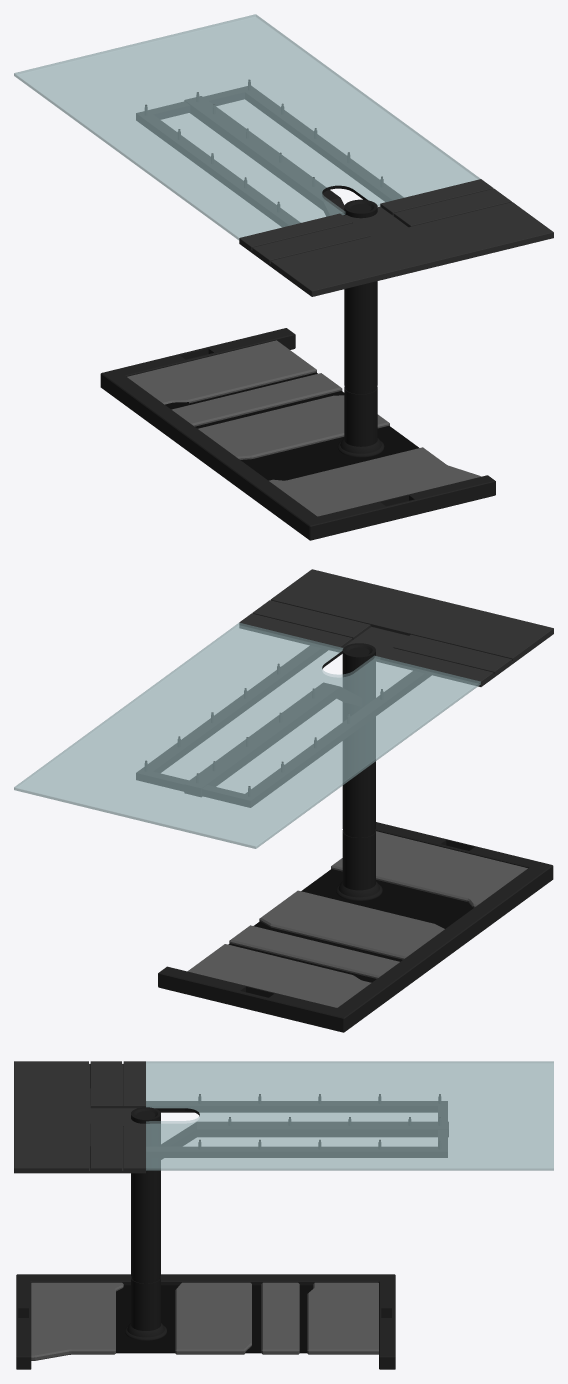
Rendered from fbx_Bureau.fbx.
3 views of the same model, one above another, from view 1: azimuth 30°, elevation 25°; view 2: azimuth 150°, elevation 25°; view 3: azimuth 270°, elevation 25° (orthographic). The views are drawn at different scales.
Visible parts, largest first — view 1: polySurface258; view 2: polySurface258; view 3: polySurface258.
Boxes of the visible parts, x1,y1,x2,y2 form: polySurface258: (14, 14, 553, 540); polySurface258: (14, 569, 553, 1032); polySurface258: (14, 1061, 553, 1369).
Size of the model in its own units: 84.71 by 83.98 by 180.
